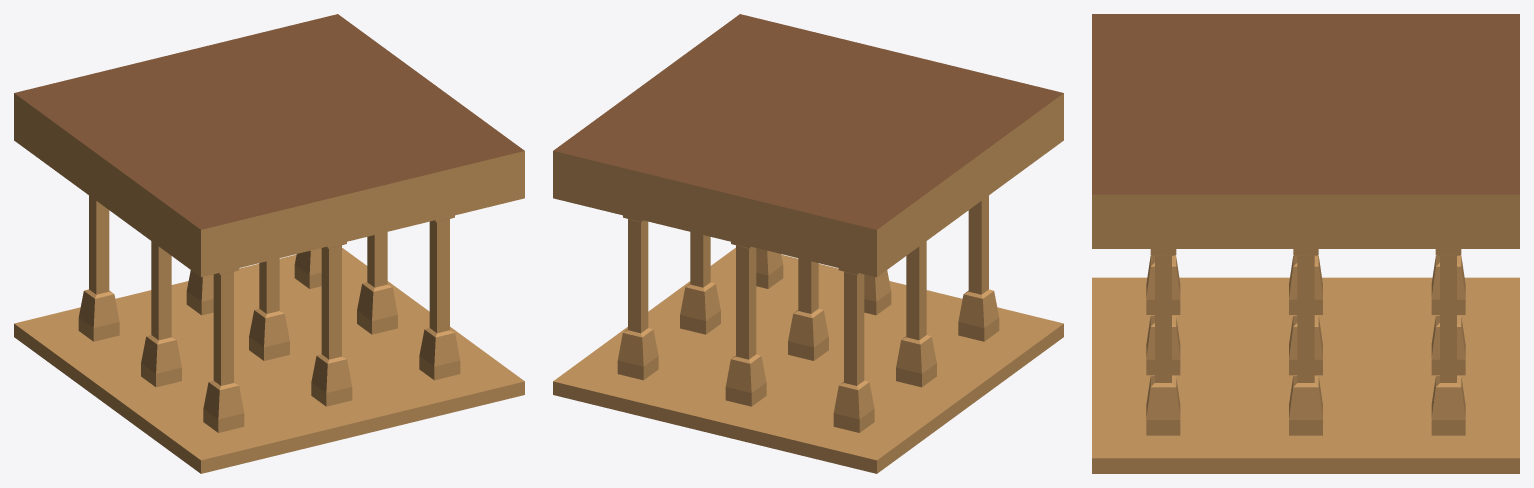
File: hindu-pillars-middle.glb
3 renders of one model, left to right at view 1: azimuth 30°, elevation 25°; view 2: azimuth 150°, elevation 25°; view 3: azimuth 270°, elevation 25°, orthographic. The views are drawn at different scales.
Parts seen in each view (by area): view 1: hindu-pillars-middle; view 2: hindu-pillars-middle; view 3: hindu-pillars-middle.
Part boxes in pixels (left/top/right/bottom): hindu-pillars-middle: left=14, top=14, right=524, bottom=473; hindu-pillars-middle: left=553, top=14, right=1063, bottom=473; hindu-pillars-middle: left=1092, top=14, right=1519, bottom=473.
Size of the model in its own units: 5 by 3.6 by 5.
Materials: 1 (1 with a texture image).
